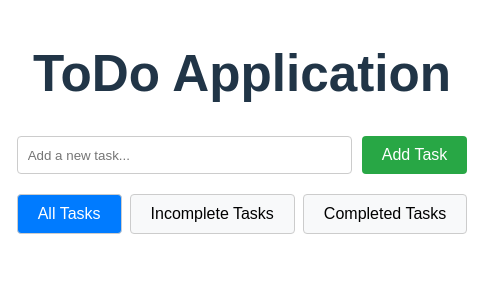
Test: ToDo Application › switches to "Incomplete Tasks" tab
This screenshot has width=484, height=282.
Type "Task 1" into the field with placeholder "Add a new task..." at (184, 156), box [17,136,352,174]
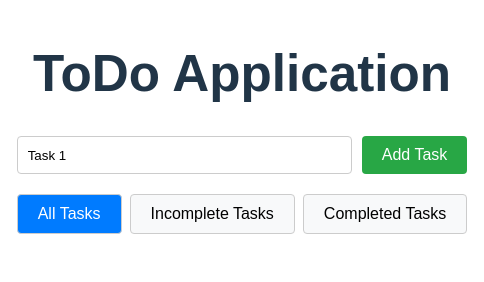
Click the button "Add Task" at (415, 156), box [362,136,467,174]
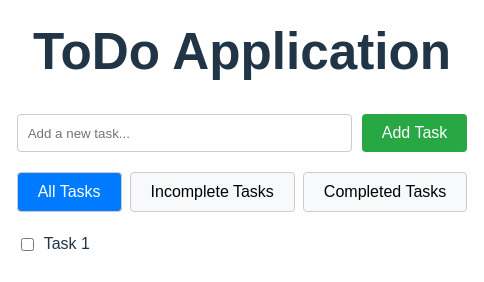
Type "Task 2" into the field with placeholder "Add a new task..." at (184, 134), box [17,114,352,152]
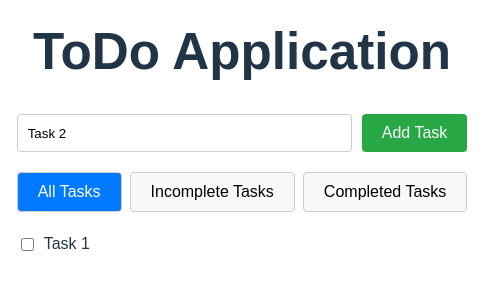
Click the button "Add Task" at (415, 134), box [362,114,467,152]
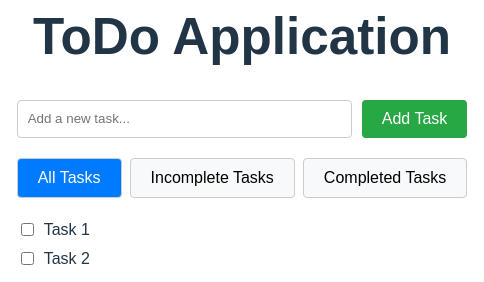
Click the checkbox next to "Task 1" at (27, 230), box [21,224,34,236]
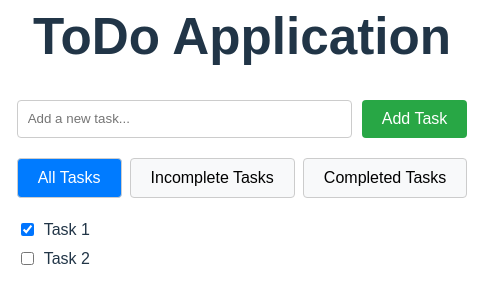
Click the button "Incomplete Tasks" at (212, 178), box [130,158,295,198]
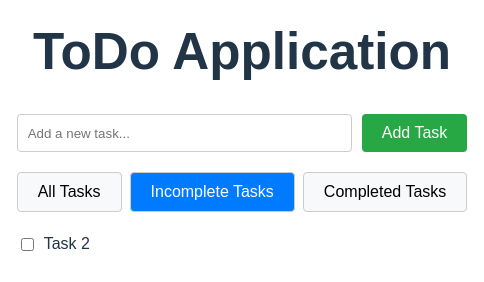
Check: the list item "Task 2" is shown, box [21,236,90,252]
Check: the list item "Task 1" is gone
